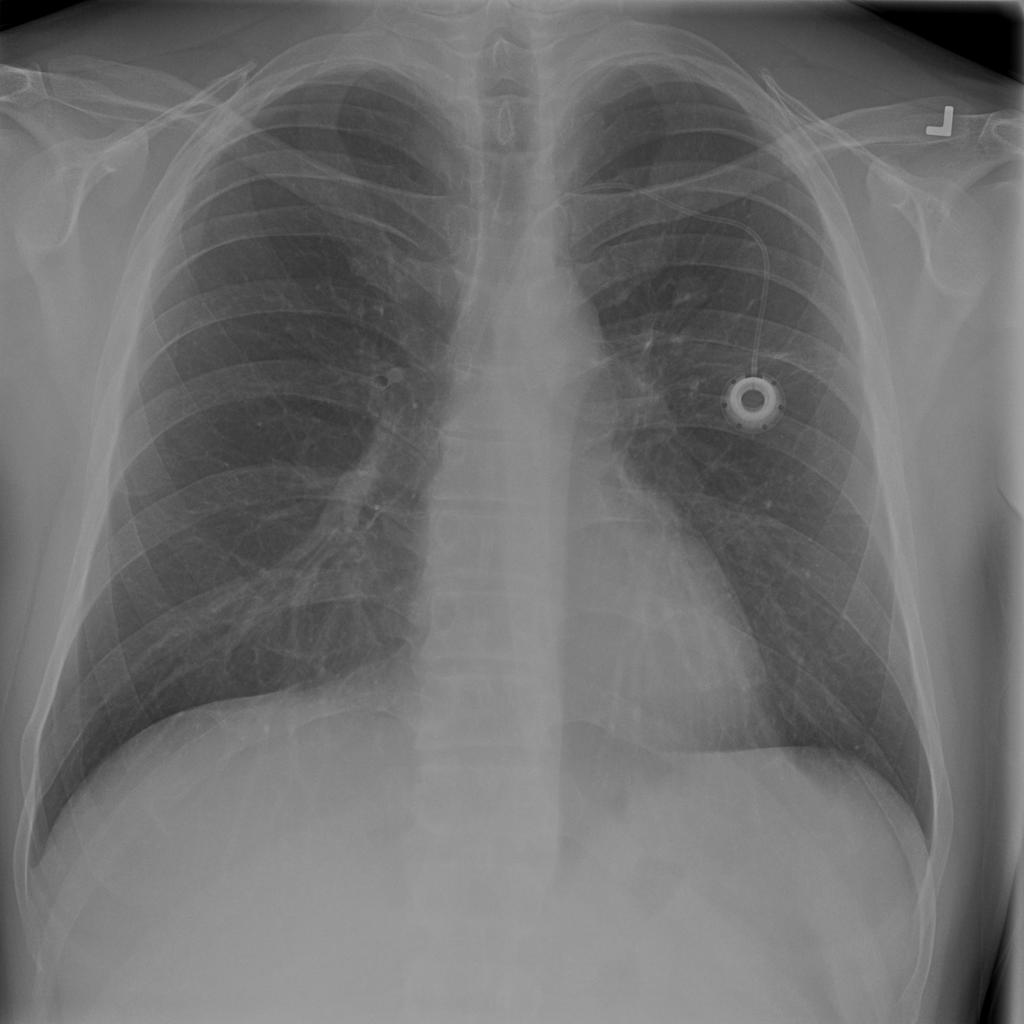nodule: (655, 260, 726, 325)
